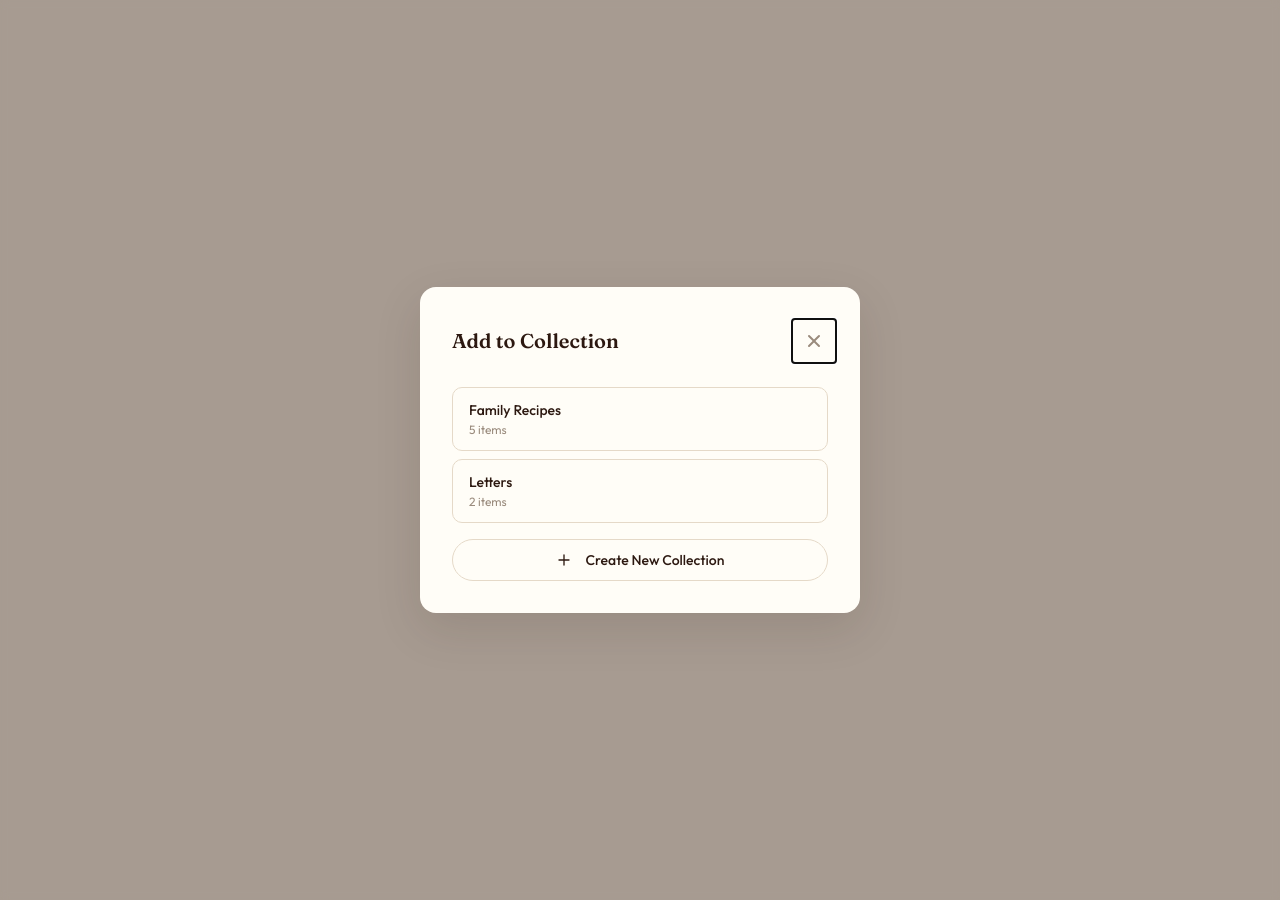
Test: CollectionPickerModal › switches to create mode when Create New Collection is clicked
What coordinates should you click on to do the following:
click the button "Create New Collection"
I would click on:
 (640, 560)
Its box is [452,539,828,581].
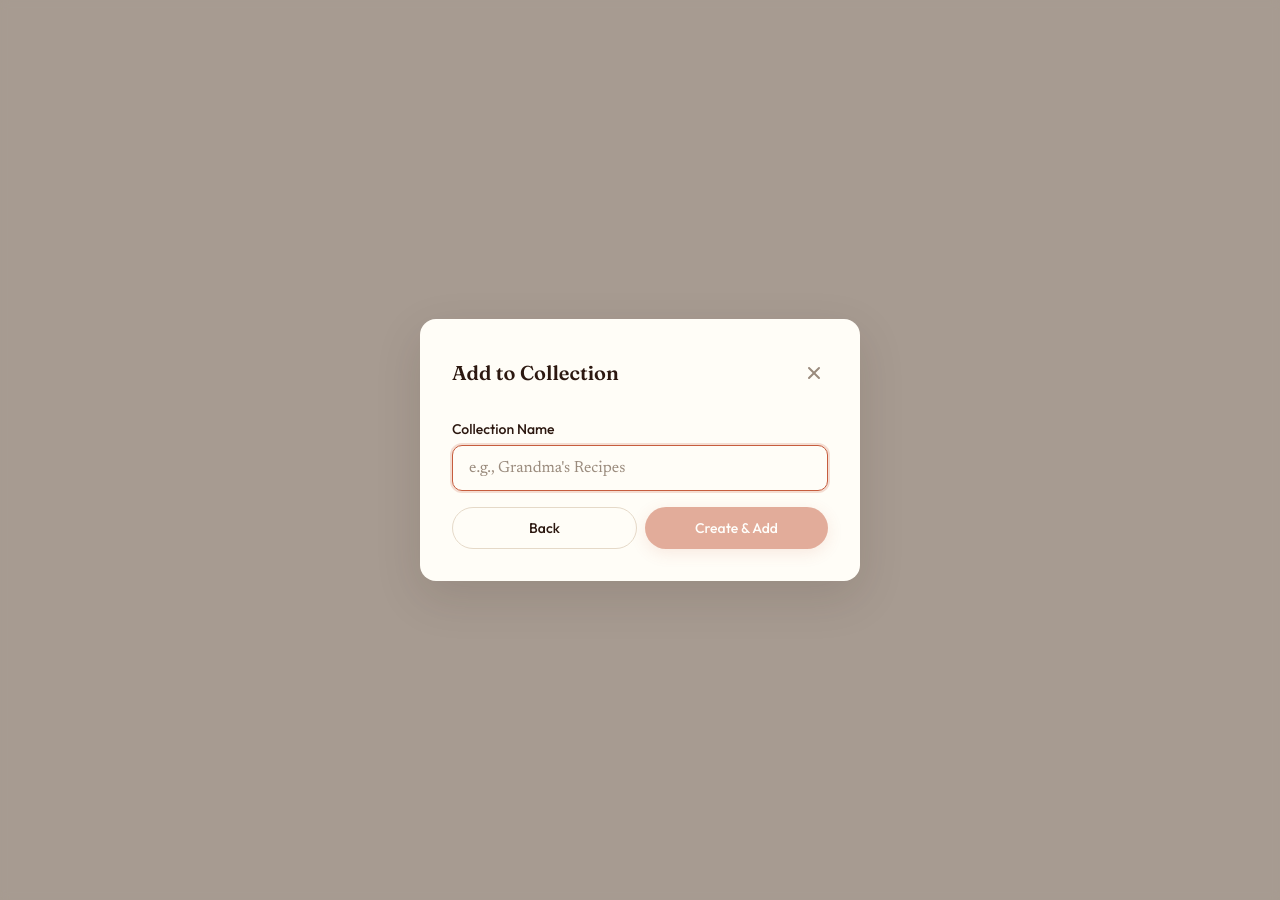
Expected: the field labelled "Collection Name" is shown, [452,445,828,491]
Expected: the button "Back" is shown, [452,507,637,549]
Expected: the button "Create & Add" is shown, [645,507,828,549]
